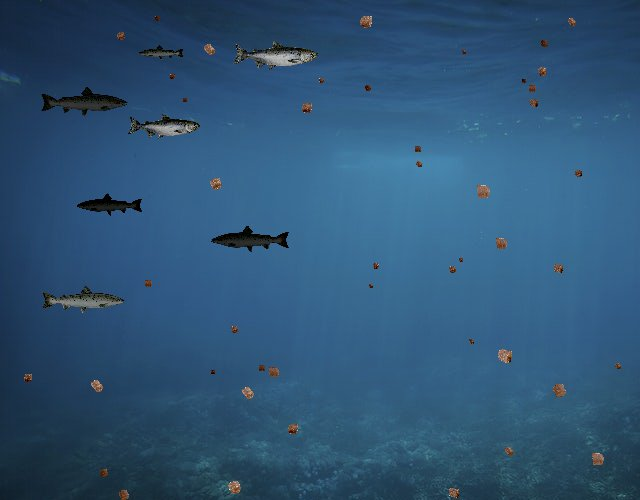Fish: (40, 85, 130, 118), (40, 284, 126, 315), (232, 40, 318, 71), (211, 224, 292, 254), (128, 113, 201, 139), (77, 192, 145, 217), (139, 44, 186, 61)
Pellet: (469, 178, 497, 206), (489, 232, 513, 256), (197, 37, 221, 61), (499, 441, 519, 461), (532, 61, 552, 81), (315, 75, 328, 88), (456, 254, 466, 264)
